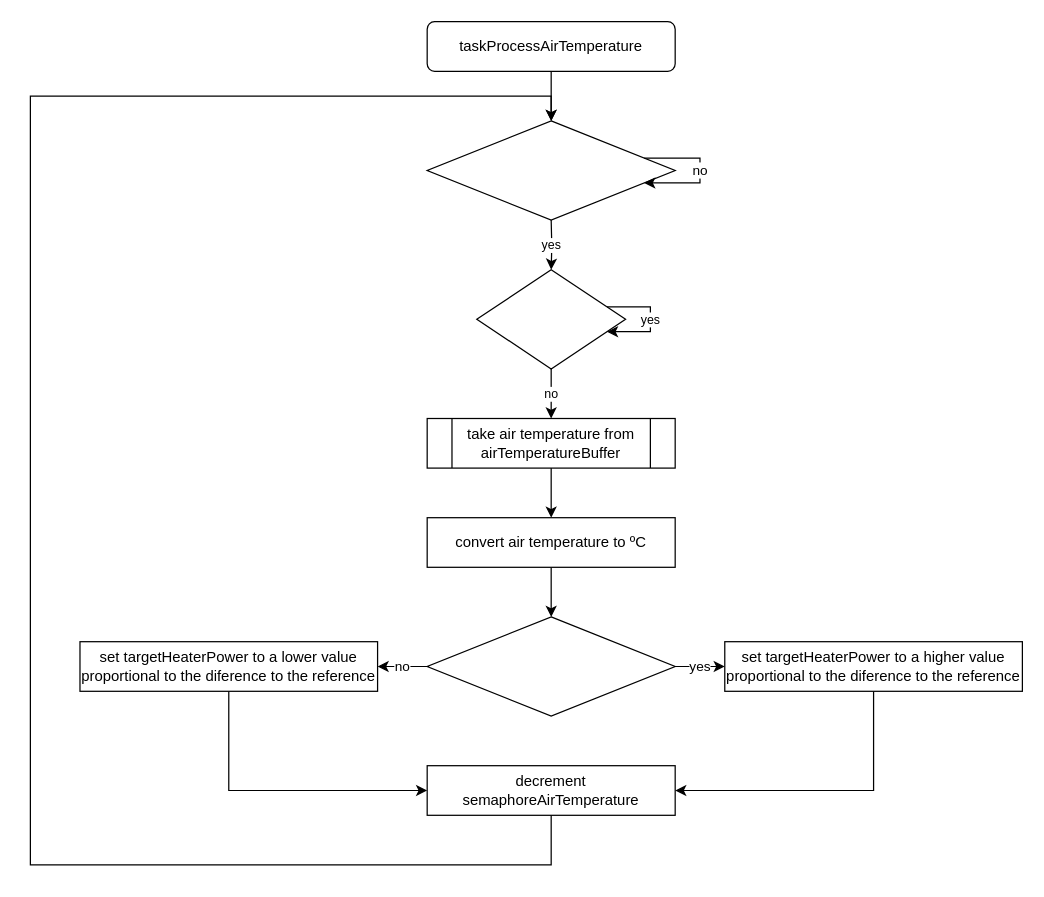
This 1044x897 diagram has some shape labels left out. The centre of each missing label's shape, as x and y in pixels:
"air temperature < ref air temperature?" belongs at (x=550, y=666).
"notificationAirTemperatureAcquired pending?" belongs at (x=550, y=170).
"semaphoreAirTemperature locked?" belongs at (x=551, y=318).
